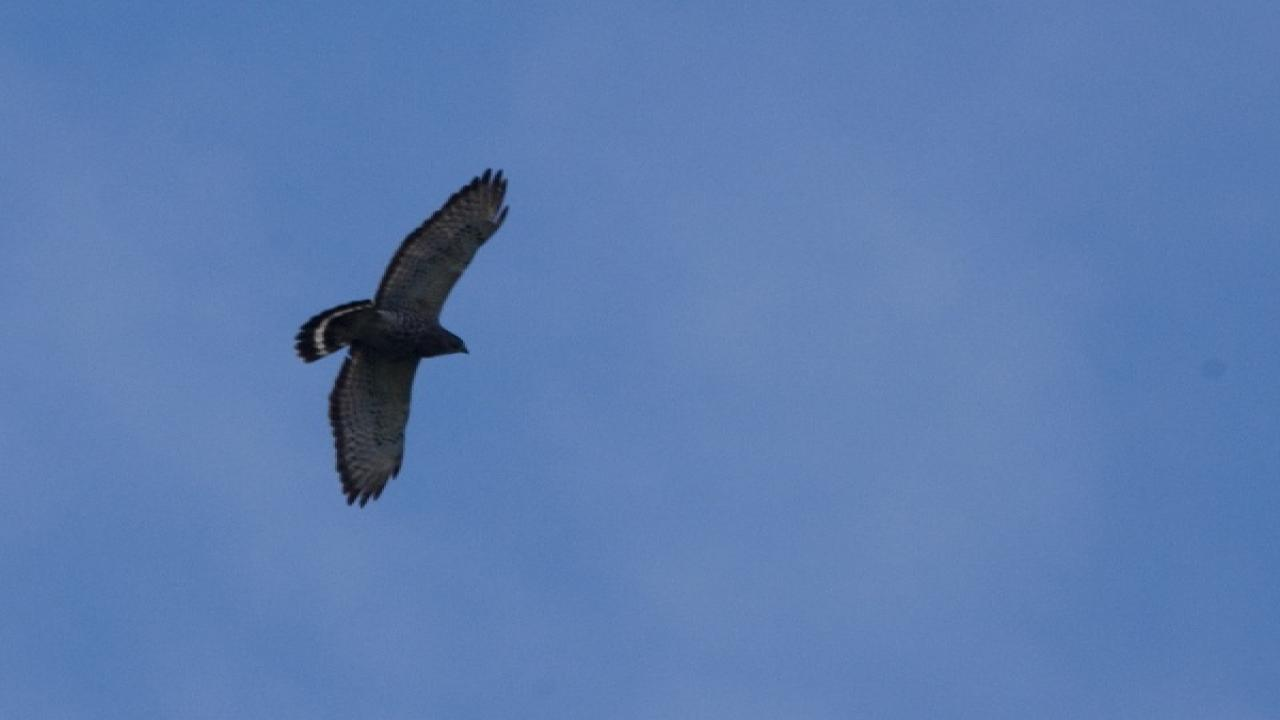Bird: (282, 158, 532, 518)
